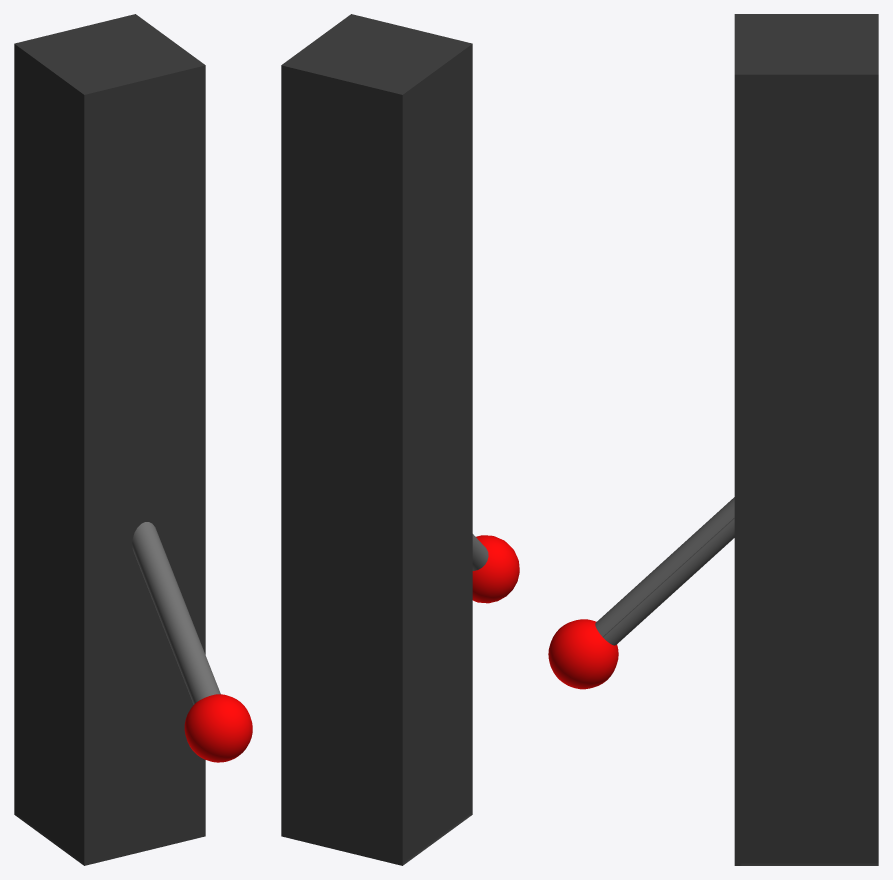
Rendered from LeverD.fbx.
3 views of the same model, side by side, from view 1: azimuth 30°, elevation 25°; view 2: azimuth 150°, elevation 25°; view 3: azimuth 270°, elevation 25° (orthographic). The views are drawn at different scales.
Visible parts, largest first — view 1: Piller, LeverCylinder, LeverSphere; view 2: Piller, LeverSphere; view 3: Piller, LeverCylinder, LeverSphere.
Part boxes in pixels (box(x1,y1,x2,y2)): Piller: box(14, 14, 205, 865); LeverCylinder: box(132, 522, 220, 704); LeverSphere: box(184, 694, 252, 762); Piller: box(281, 14, 472, 865); LeverSphere: box(472, 535, 519, 603); Piller: box(734, 14, 878, 865); LeverCylinder: box(595, 497, 734, 645); LeverSphere: box(548, 619, 618, 689).
Size of the model in its own units: 0.3745 by 2.27 by 0.8593.
1 material, 1 textured.
